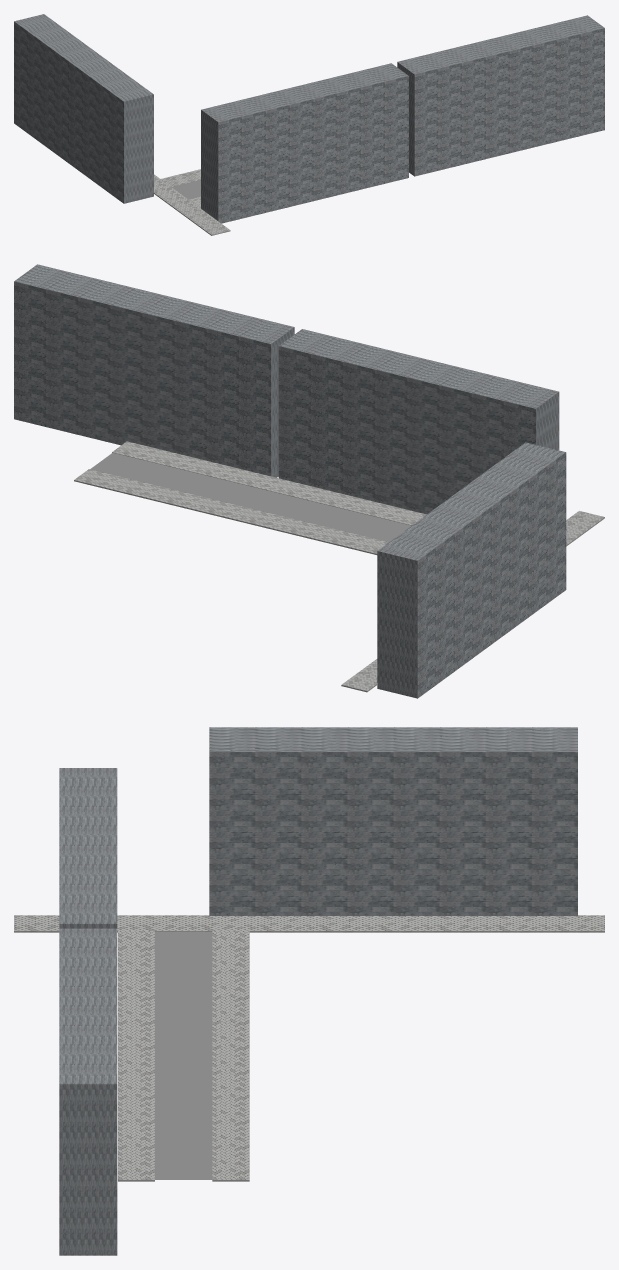
3 views of the same model, one above another, from view 1: azimuth 30°, elevation 25°; view 2: azimuth 150°, elevation 25°; view 3: azimuth 270°, elevation 25° (orthographic). The views are drawn at different scales.
Parts seen in each view (by area): view 1: wj; view 2: wj; view 3: wj.
Part boxes in pixels (bbox=[...]): wj: bbox=[14, 14, 604, 235]; wj: bbox=[14, 264, 604, 698]; wj: bbox=[14, 727, 604, 1255].
Bounding box in the file's own units: 5086 × 1137 × 3557.
